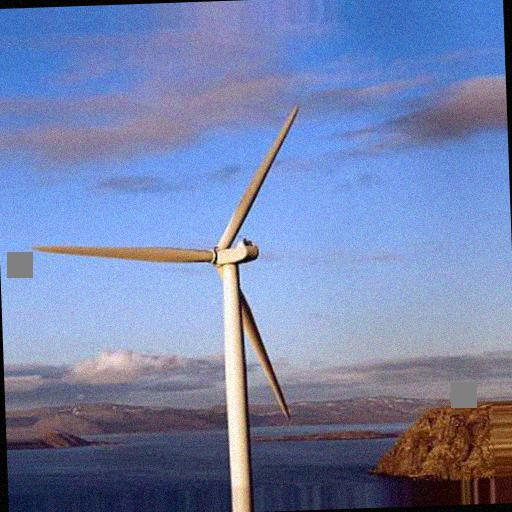wind turbine: (31, 102, 300, 485)
